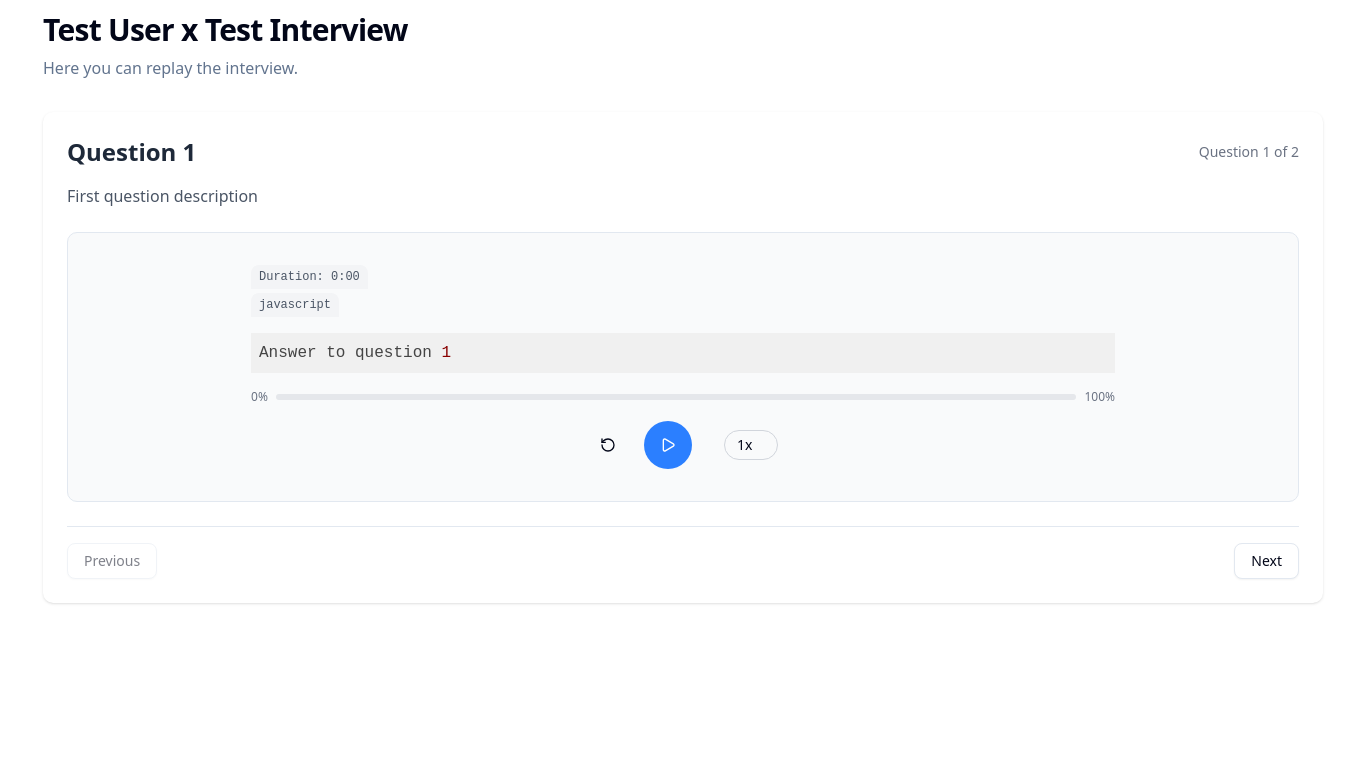
ReadonlyInterview › navigates to next question when Next button is clicked
The width and height of the screenshot is (1366, 780).
Check: the heading "Question 1" is shown, box [67,136,196,168]
Check: the text "Question 1 of 2" is shown, box [1199,142,1299,162]
Click Next button
Click the button "Next": (1267, 561) [1234,543,1299,579]
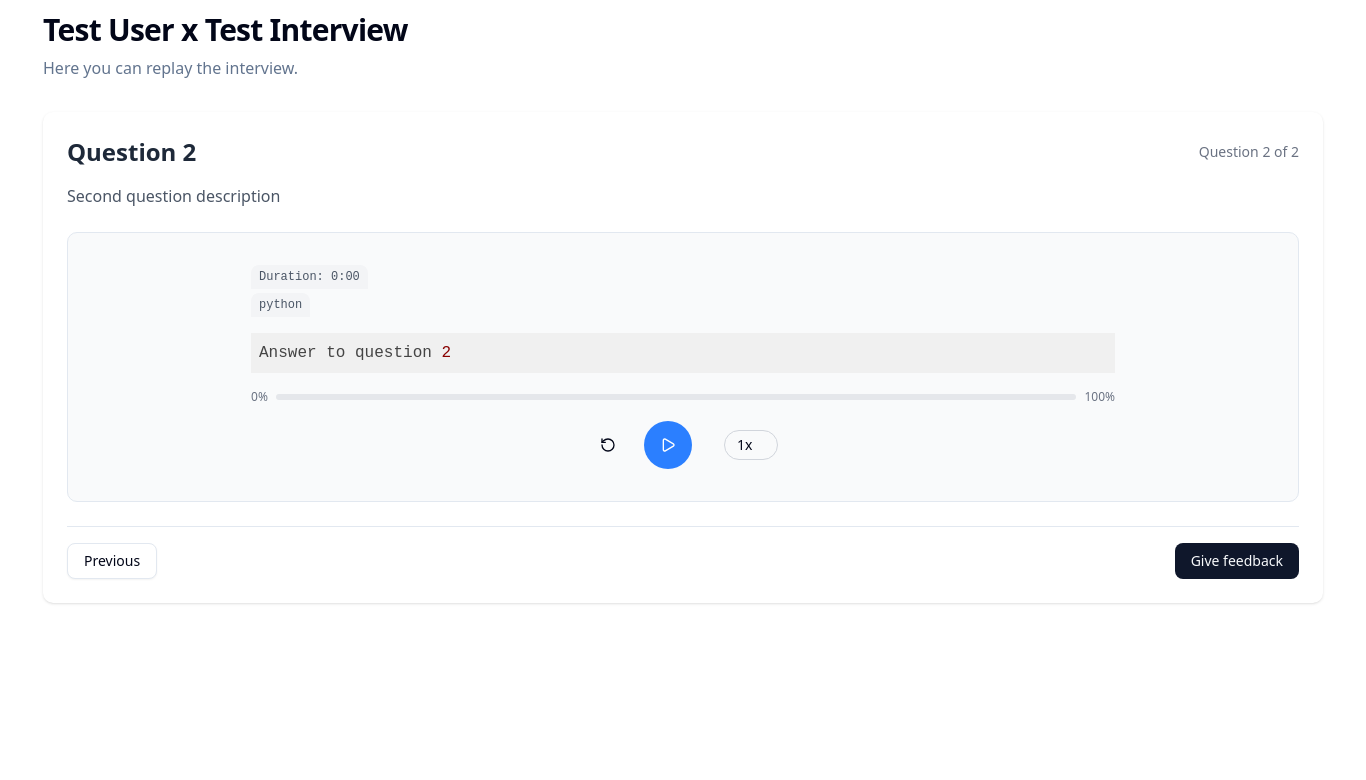
Check: the heading "Question 2" is shown, box [67,136,196,168]
Check: the text "Question 2 of 2" is shown, box [1199,142,1299,162]
